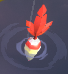idle: (19, 3, 54, 64)
